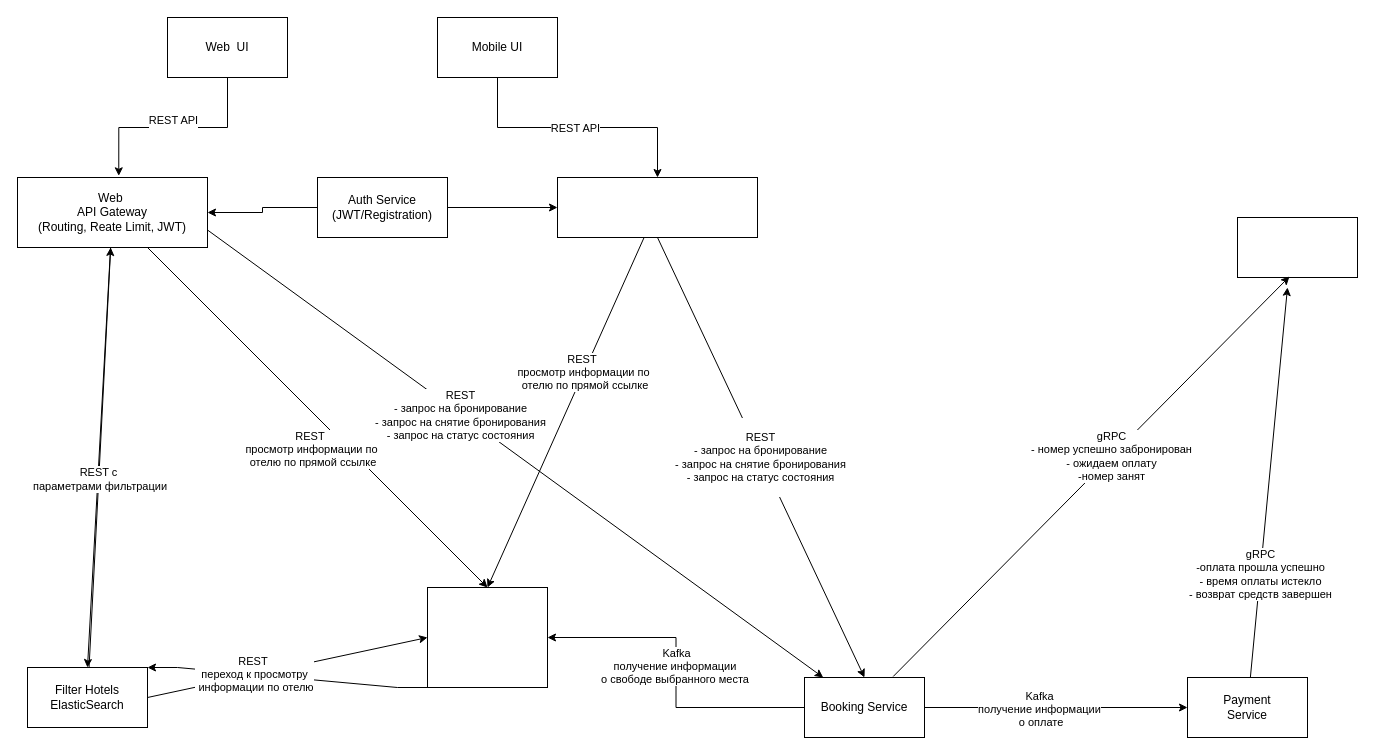
Image size: 1375x755. Some labels were removed from this diagram. Here are the shapes that lost their labels. From the top down, the centre of each, then its label:
At (657,207): "Mobile API Gateway (Routing, Reate Limit, JWT)".
At (1297,247): "Notification Service (SMS, PUSH, EMAIL)".
At (487,637): "Information Store (CRUD - управление информацией об отелях)".
